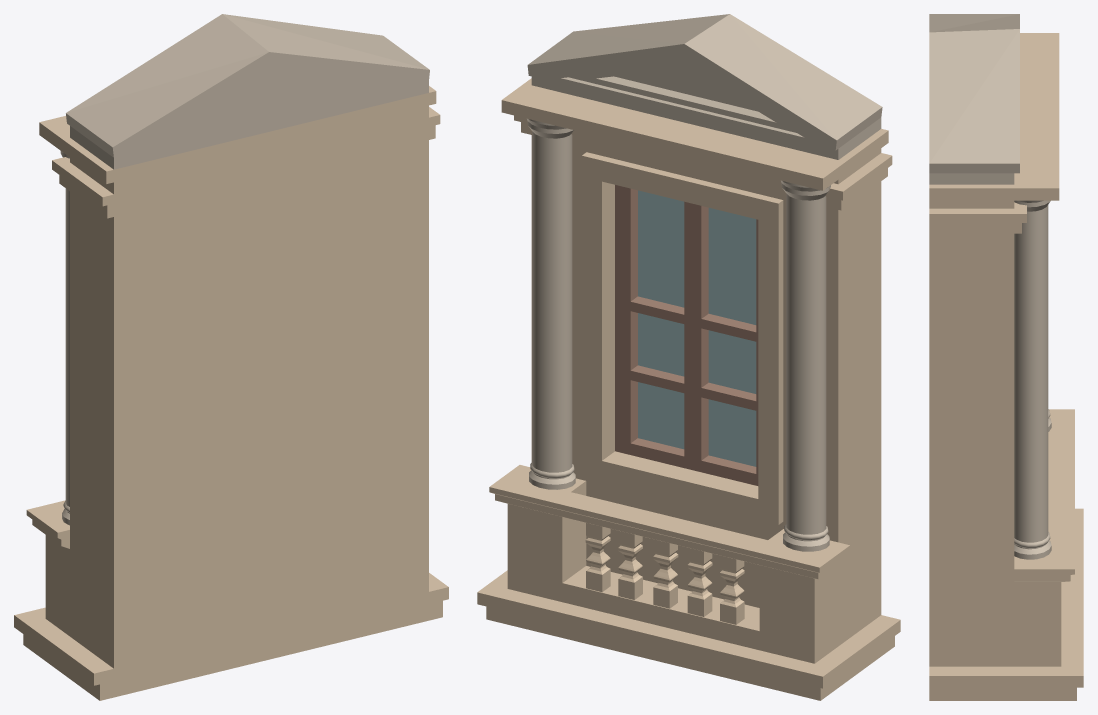
File: BC_Window_A.fbx
The picture shows the model from 3 angles, left to right: view 1: azimuth 30°, elevation 25°; view 2: azimuth 150°, elevation 25°; view 3: azimuth 270°, elevation 25°; orthographic projection. The views are drawn at different scales.
Parts seen in each view (by area): view 1: BC_Window_A; view 2: BC_Window_A; view 3: BC_Window_A.
Part boxes in pixels (left/top/right/bottom): BC_Window_A: left=14, top=14, right=448, bottom=700; BC_Window_A: left=477, top=14, right=900, bottom=700; BC_Window_A: left=929, top=14, right=1083, bottom=700.
Bounding box in the file's own units: 465 × 765 × 181.
